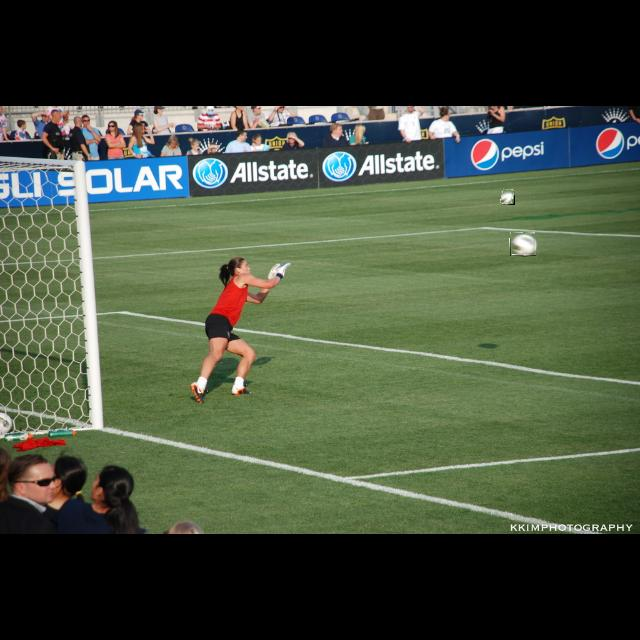Football: (510, 232, 536, 256), (501, 189, 515, 205)
